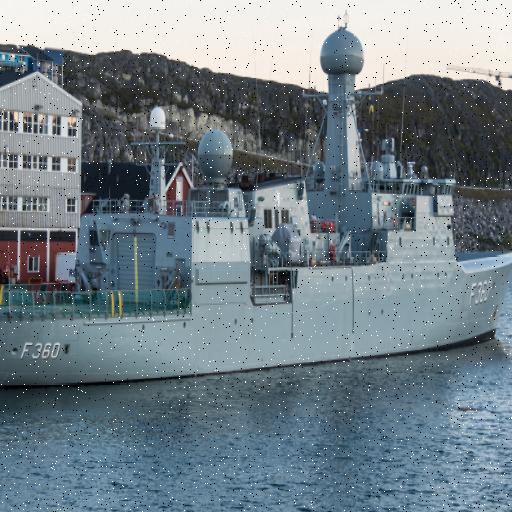Fragata: (1, 17, 512, 395)
